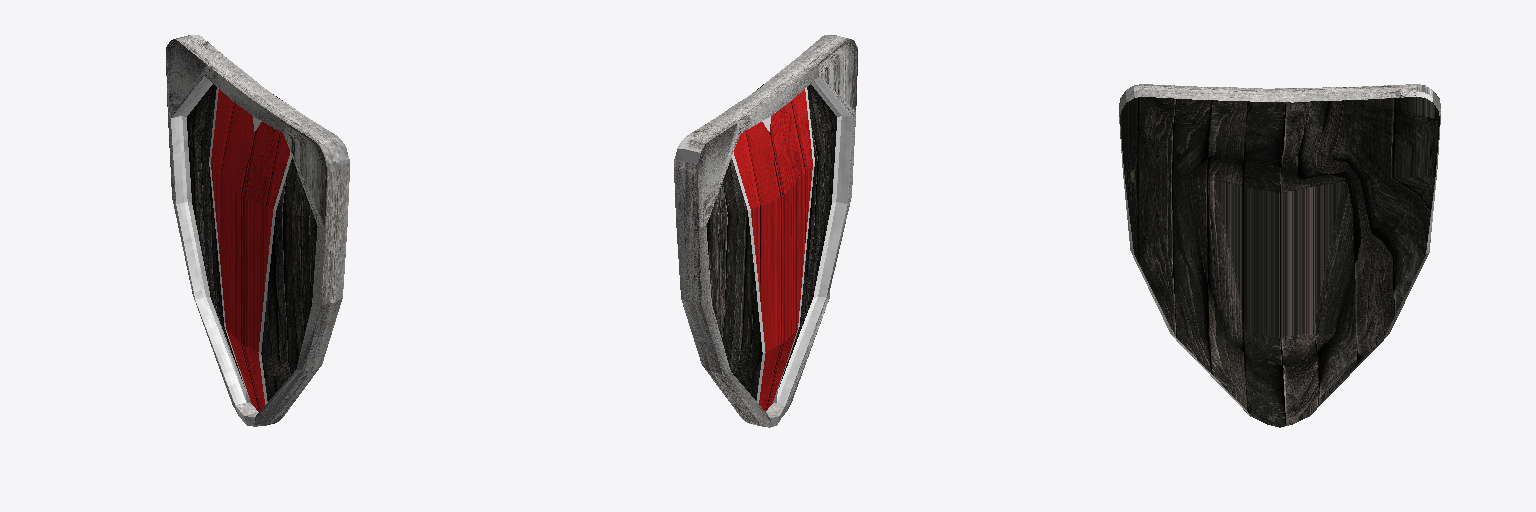
3 renders of one model, left to right at view 1: azimuth 30°, elevation 25°; view 2: azimuth 150°, elevation 25°; view 3: azimuth 270°, elevation 25°, orthographic.
Parts seen in each view (by area): view 1: polySurface6 polySurface2 Mesh; view 2: polySurface6 polySurface2 Mesh; view 3: polySurface6 polySurface2 Mesh.
Part boxes in pixels (x1,y1,x2,y2): polySurface6 polySurface2 Mesh: (166,35,349,426); polySurface6 polySurface2 Mesh: (674,35,857,427); polySurface6 polySurface2 Mesh: (1119,84,1440,427).
Bounding box in the file's own units: 0.0574 × 0.6527 × 0.5701.
6 materials, 4 textured.